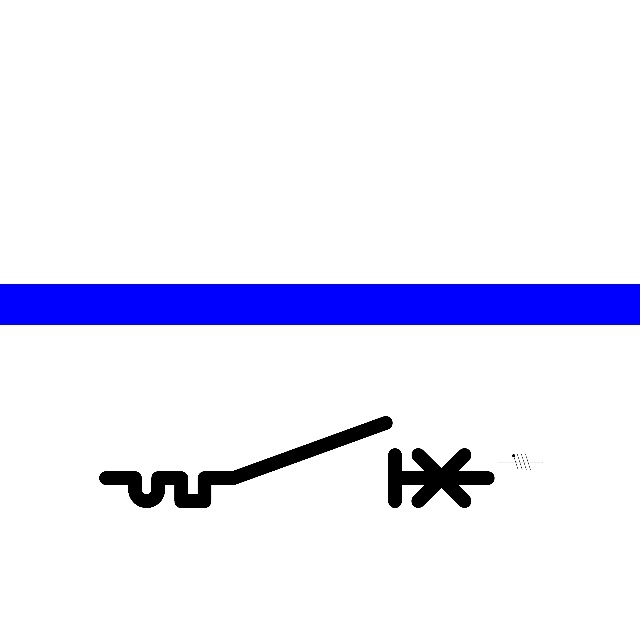interruptor_termomagnetico: (96, 413, 498, 511)
